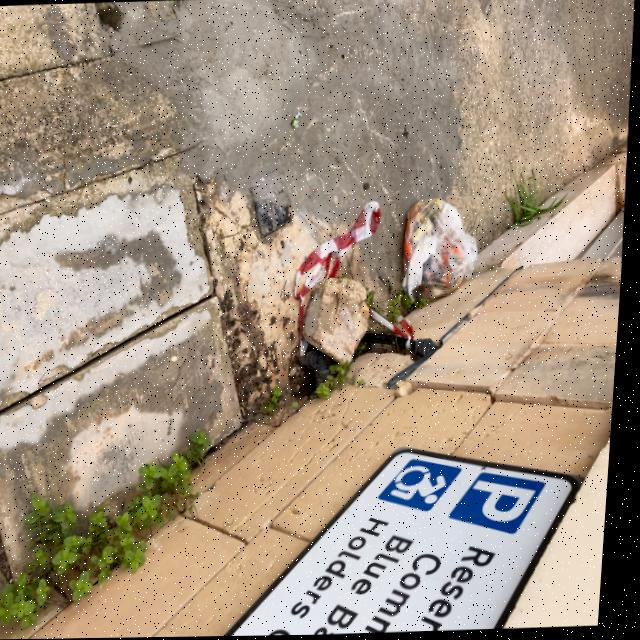Organic Waste -White Bag-: (401, 198, 485, 312)
